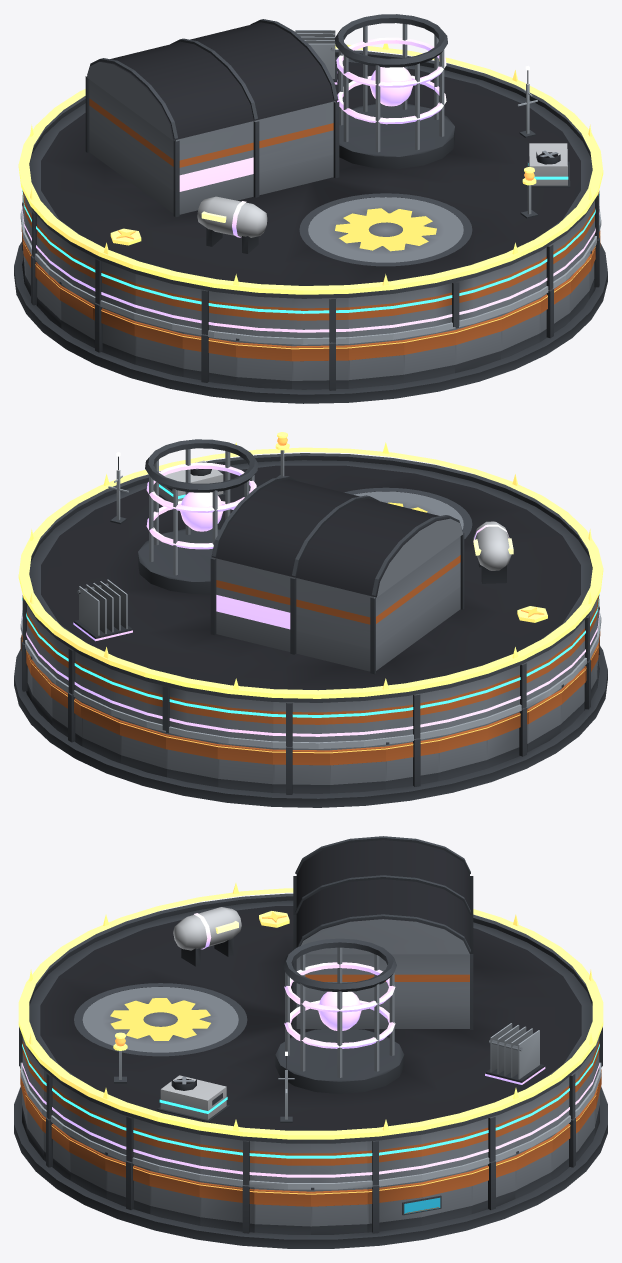
File: metamaterial_foundry_m.glb
The picture shows the model from 3 angles, top to bottom: view 1: azimuth 30°, elevation 25°; view 2: azimuth 150°, elevation 25°; view 3: azimuth 270°, elevation 25°; orthographic projection.
Visible parts, largest first — view 1: Roof, Base, L4, Wall_21, Wall_20, Wall_22, Wall_19, Wall_23, Wall_18, Wall_24, Upper_21, Upper_20 (+26 smaller); view 2: Roof, Base, L4, Wall_10, Wall_09, Wall_11, Wall_12, Wall_08, Wall_13, Wall_07, Upper_10, Upper_11 (+27 smaller); view 3: Roof, Base, L4, Wall_00, Wall_31, Wall_30, L3, Wall_29, Wall_01, Wall_02, Wall_28, Wall_03 (+26 smaller).
Part boxes in pixels (<box>): Roof: <box>24,14,596,298</box>; Base: <box>14,242,607,403</box>; L4: <box>197,30,337,253</box>; Wall_21: <box>292,342,348,390</box>; Wall_20: <box>236,338,291,389</box>; Wall_22: <box>348,338,404,388</box>; Wall_19: <box>182,332,236,385</box>; Wall_23: <box>403,328,455,382</box>; Wall_18: <box>134,320,183,376</box>; Wall_24: <box>455,314,502,373</box>; Upper_21: <box>292,298,348,342</box>; Upper_20: <box>236,294,292,337</box>; Roof: <box>25,439,597,702</box>; Base: <box>14,646,607,807</box>; L4: <box>73,521,513,641</box>; Wall_10: <box>273,747,329,794</box>; Wall_09: <box>217,742,273,792</box>; Wall_11: <box>330,744,385,793</box>; Wall_12: <box>385,736,439,789</box>; Wall_08: <box>166,731,218,787</box>; Wall_13: <box>438,724,487,780</box>; Wall_07: <box>119,719,166,777</box>; Upper_10: <box>273,702,329,746</box>; Upper_11: <box>329,698,385,741</box>; Roof: <box>27,836,594,1143</box>; Base: <box>14,1086,607,1248</box>; L4: <box>173,907,545,1084</box>; Wall_00: <box>311,1187,367,1234</box>; Wall_31: <box>254,1187,310,1234</box>; Wall_30: <box>199,1181,254,1233</box>; L3: <box>157,1075,229,1121</box>; Wall_29: <box>149,1169,200,1225</box>; Wall_01: <box>367,1181,422,1233</box>; Wall_02: <box>421,1169,472,1225</box>; Wall_28: <box>105,1152,150,1213</box>; Wall_03: <box>471,1154,516,1213</box>.
Bounding box in the file's own units: 14.75 × 5.94 × 14.75.
